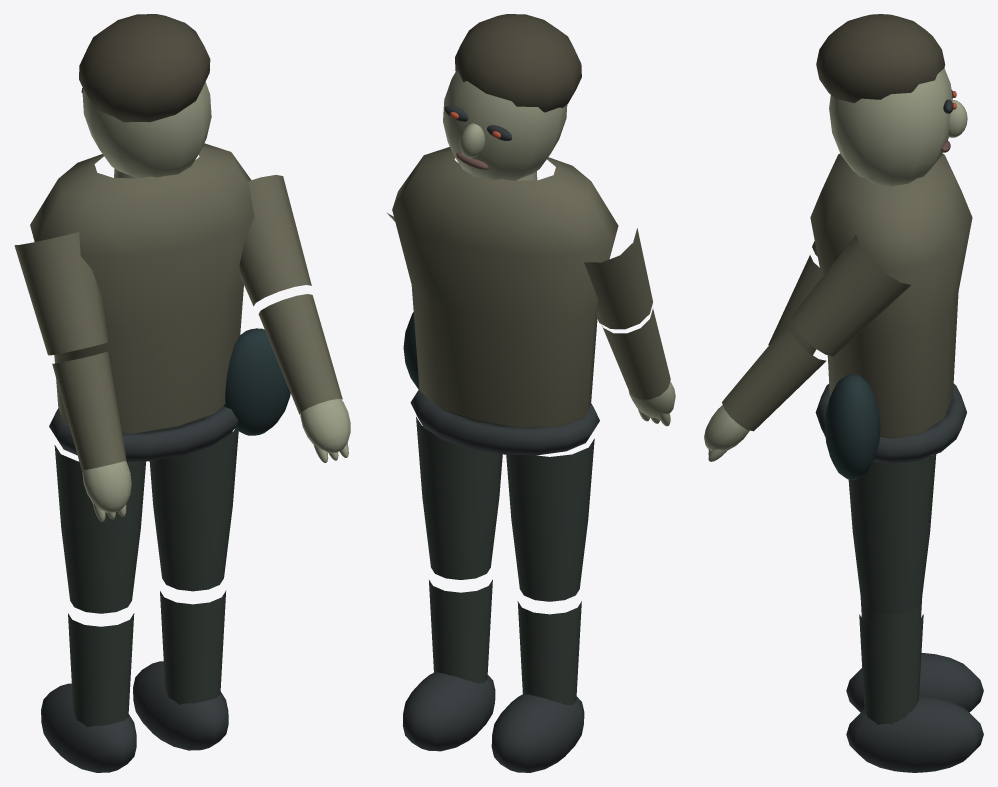
The model's file is infected.glb.
The picture shows the model from 3 angles, left to right: view 1: azimuth 30°, elevation 25°; view 2: azimuth 150°, elevation 25°; view 3: azimuth 270°, elevation 25°; orthographic projection. The views are drawn at different scales.
Parts seen in each view (by area): view 1: object 1, head, kneeL, kneeR, legR, legL, elbowR, elbowL, armL, armR, object 14, object 3; view 2: object 1, head, legL, kneeR, kneeL, legR, object 3, elbowL, armL, object 14; view 3: object 1, head, kneeR, legR, armR, elbowR, object 14, kneeL, object 3, elbowL.
Part boxes in pixels (box(x1,y1,x2,y2)): object 1: box(30, 143, 254, 433); head: box(79, 14, 211, 178); kneeL: box(41, 613, 136, 772); kneeR: box(133, 590, 228, 750); legR: box(149, 429, 238, 591); legL: box(54, 445, 145, 613); elbowR: box(258, 294, 350, 462); elbowL: box(52, 351, 131, 521); armL: box(14, 232, 108, 355); armR: box(239, 175, 311, 306); object 14: box(223, 328, 290, 435); object 3: box(49, 406, 238, 461); object 1: box(392, 147, 618, 427); head: box(443, 14, 581, 180); legL: box(506, 438, 594, 601); kneeR: box(403, 579, 495, 751); kneeL: box(491, 601, 584, 772); legR: box(416, 417, 502, 579); object 3: box(410, 389, 599, 455); elbowL: box(602, 309, 675, 426); armL: box(584, 228, 652, 329); object 14: box(403, 312, 419, 389); object 1: box(810, 153, 972, 438); head: box(816, 14, 967, 186); kneeR: box(846, 614, 983, 772); legR: box(848, 454, 936, 614); armR: box(791, 235, 910, 356); elbowR: box(704, 323, 826, 461); object 14: box(824, 373, 880, 480); kneeL: box(846, 597, 983, 712); object 3: box(815, 383, 966, 463); elbowL: box(768, 255, 821, 355).
Bounding box in the file's own units: 0.68 × 1.86 × 0.6506.
